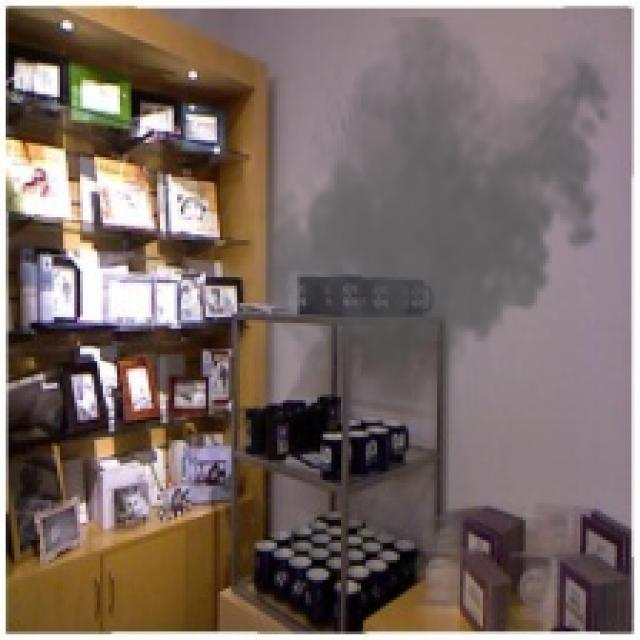smoke: (257, 17, 623, 397)
